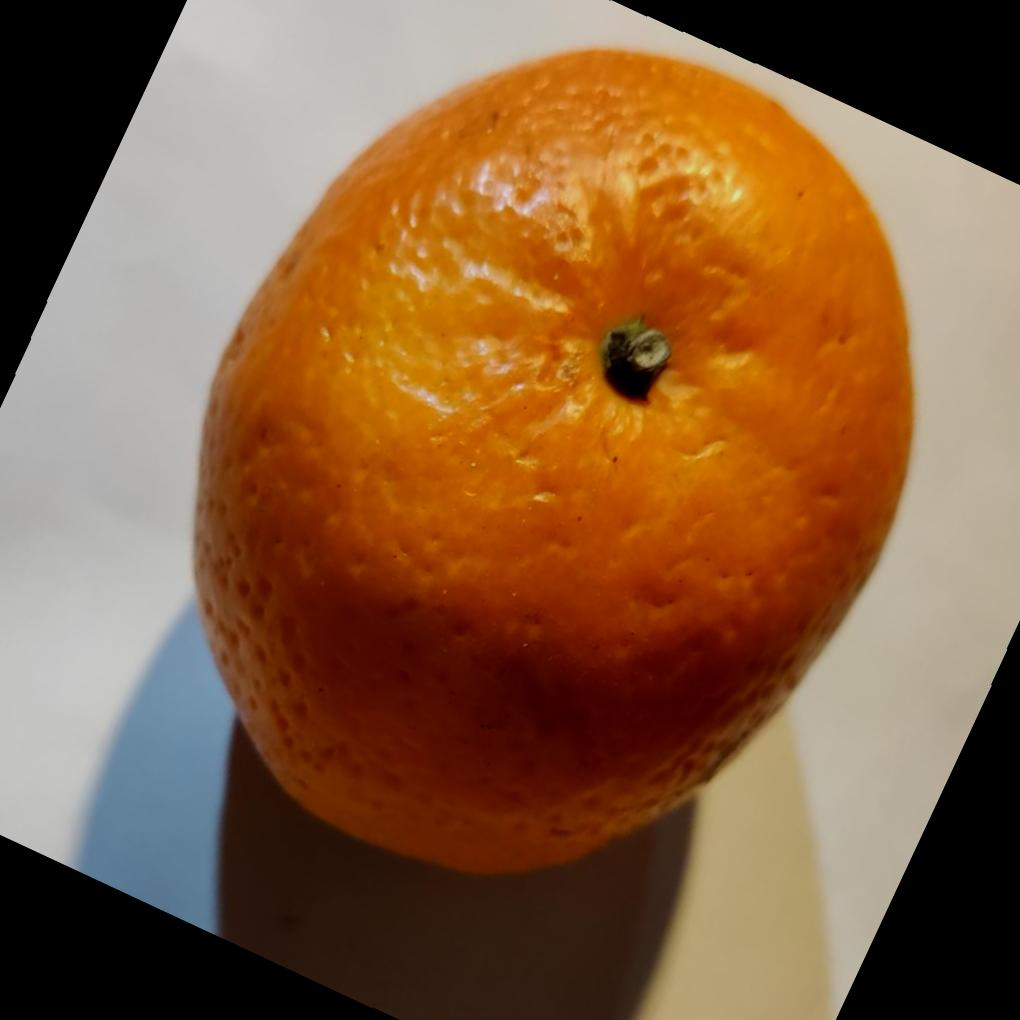FreshGuava: (186, 43, 914, 876)
